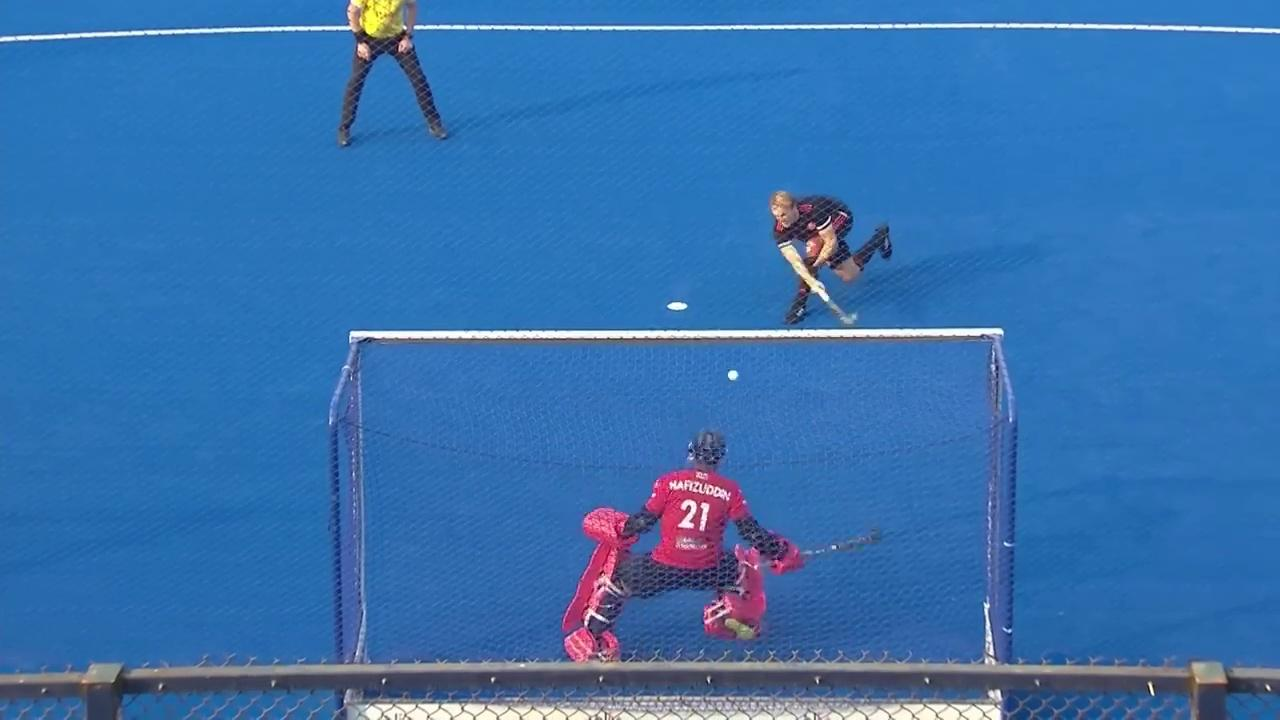ball: (724, 361, 745, 387)
